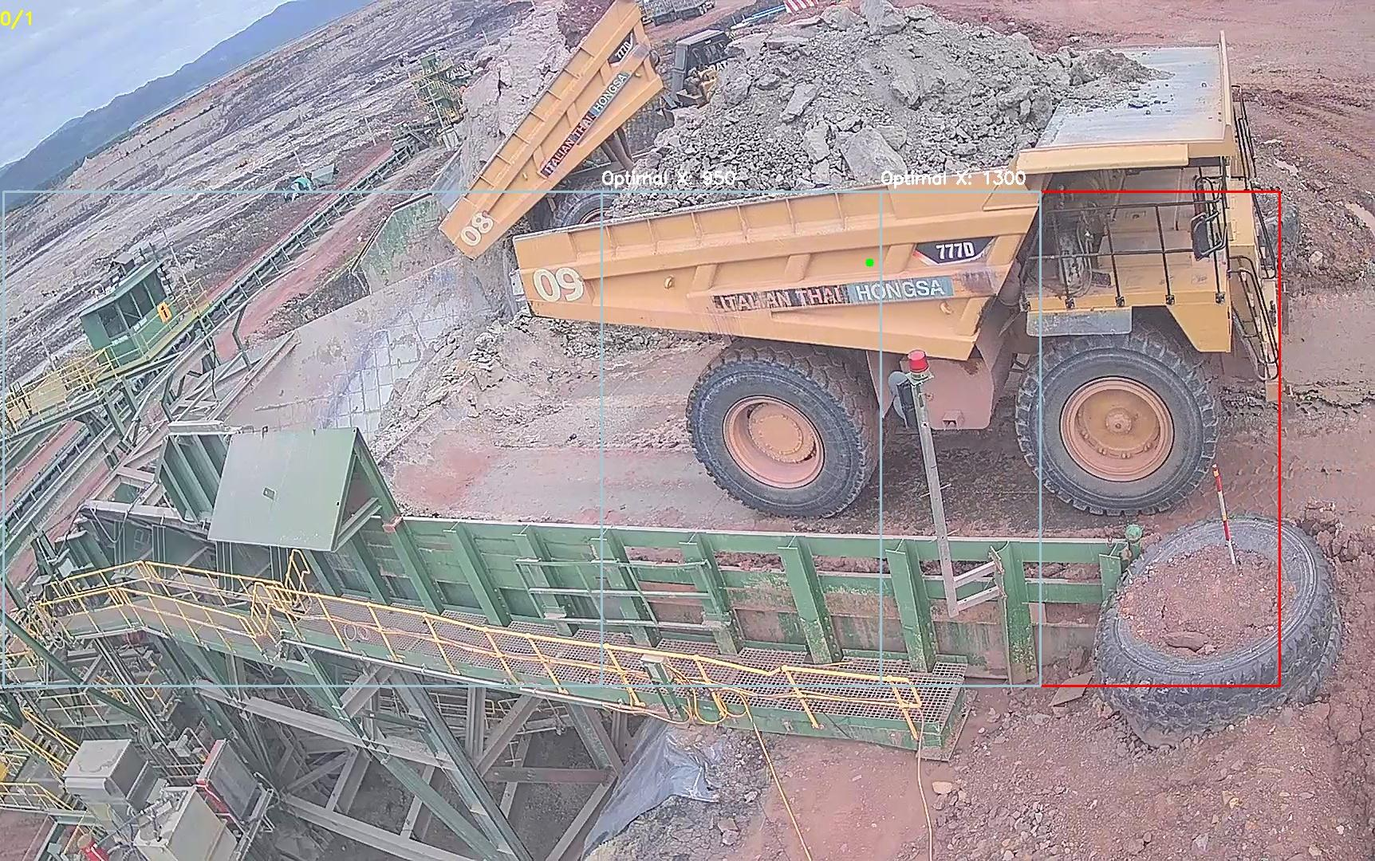company: (702, 262, 956, 321)
full_load: (664, 1, 1009, 212)
mining_truck: (512, 1, 1301, 509)
tail_number: (526, 246, 589, 318)
truck_size: (900, 227, 1005, 268)
